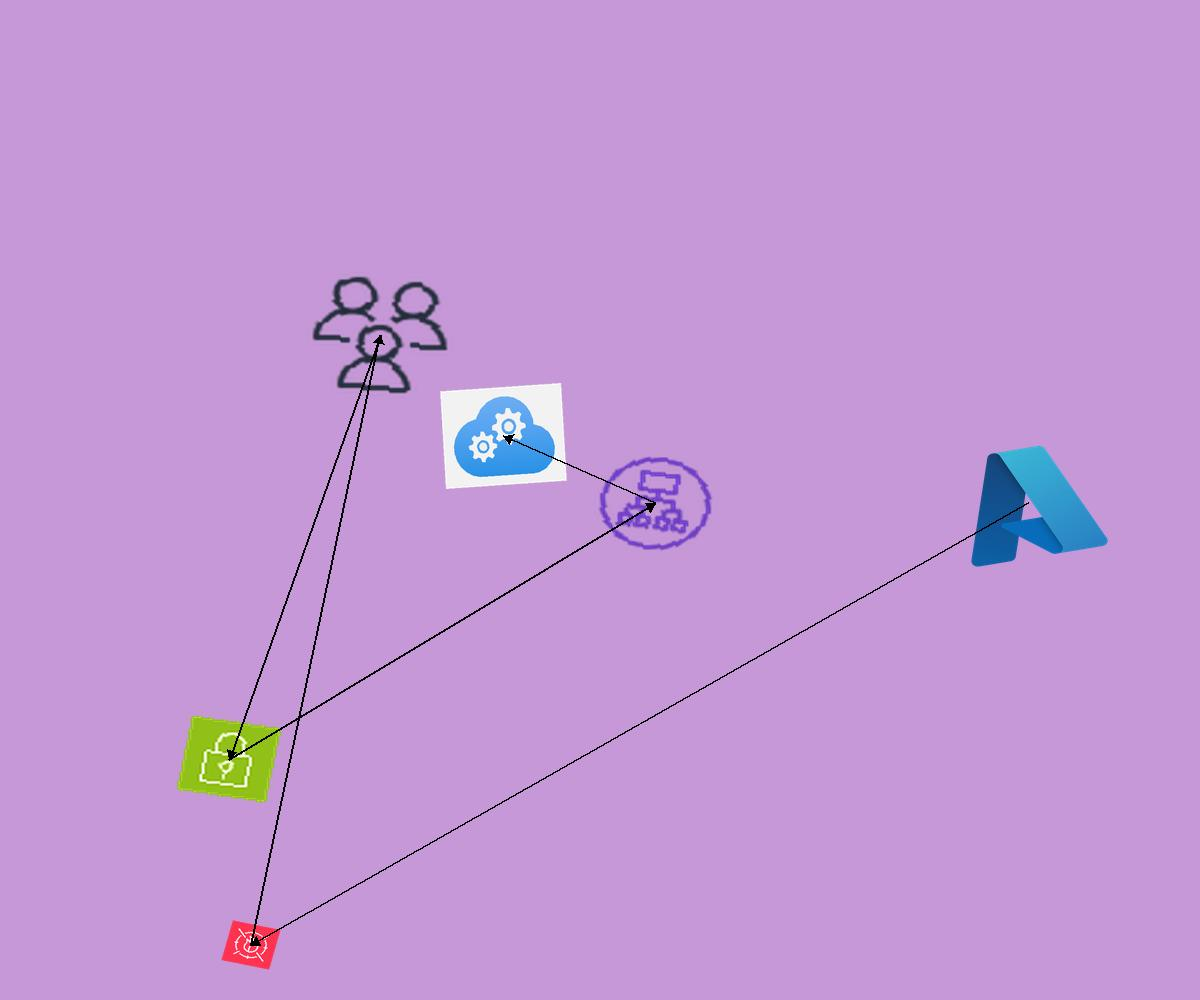AWS-Public-subnet: (175, 714, 283, 804)
AWS-Res_Elastic-Load-Balancing_Application-Load-Balancer: (585, 445, 726, 562)
AWS-Res_Users: (298, 267, 462, 403)
AWS-WAF: (221, 920, 281, 970)
Azure_cloud_services: (440, 383, 567, 489)
Azure_services: (939, 429, 1117, 577)
